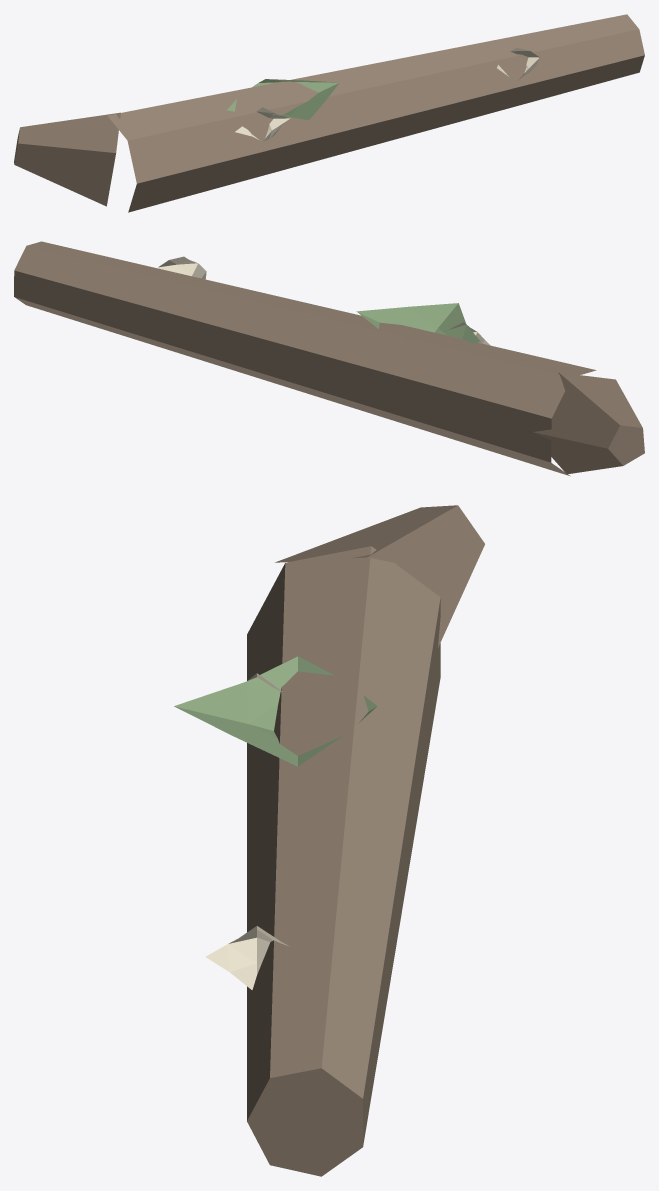
The model's file is log_v21.glb.
3 views of the same model, one above another, from view 1: azimuth 30°, elevation 25°; view 2: azimuth 150°, elevation 25°; view 3: azimuth 270°, elevation 25° (orthographic). The views are drawn at different scales.
Visible parts, largest first — view 1: lod0; view 2: lod0; view 3: lod0.
Part boxes in pixels (x1=…): lod0: x1=14, y1=14, x2=644, y2=212; lod0: x1=14, y1=241, x2=644, y2=476; lod0: x1=174, y1=505, x2=484, y2=1176.
Size of what is drawn, in the model's own units: 3.2 by 0.5255 by 0.7338.
